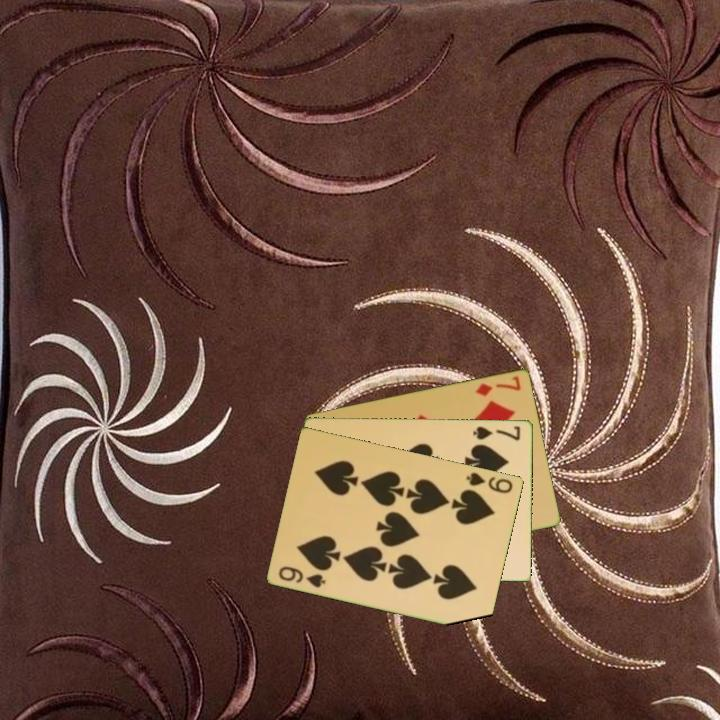7d: (472, 372, 524, 399)
7s: (470, 422, 523, 443)
9s: (275, 562, 329, 590), (463, 468, 516, 496)
